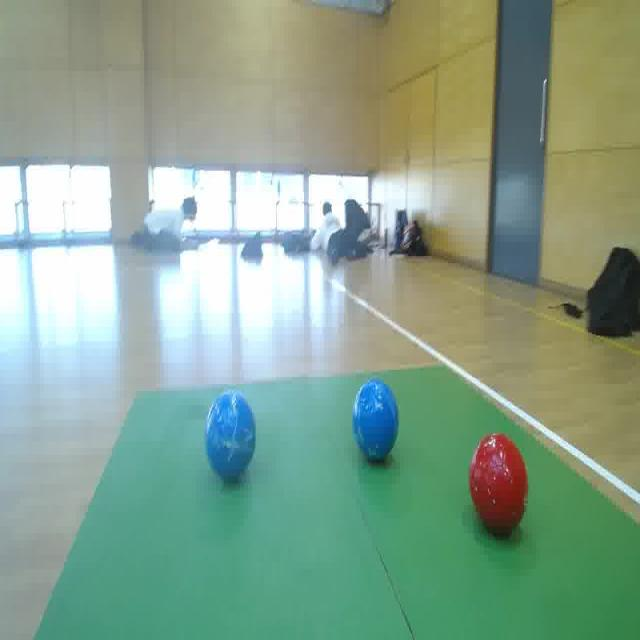blue_ball: (203, 387, 260, 490), (351, 377, 400, 467)
red_ball: (469, 425, 530, 538)
